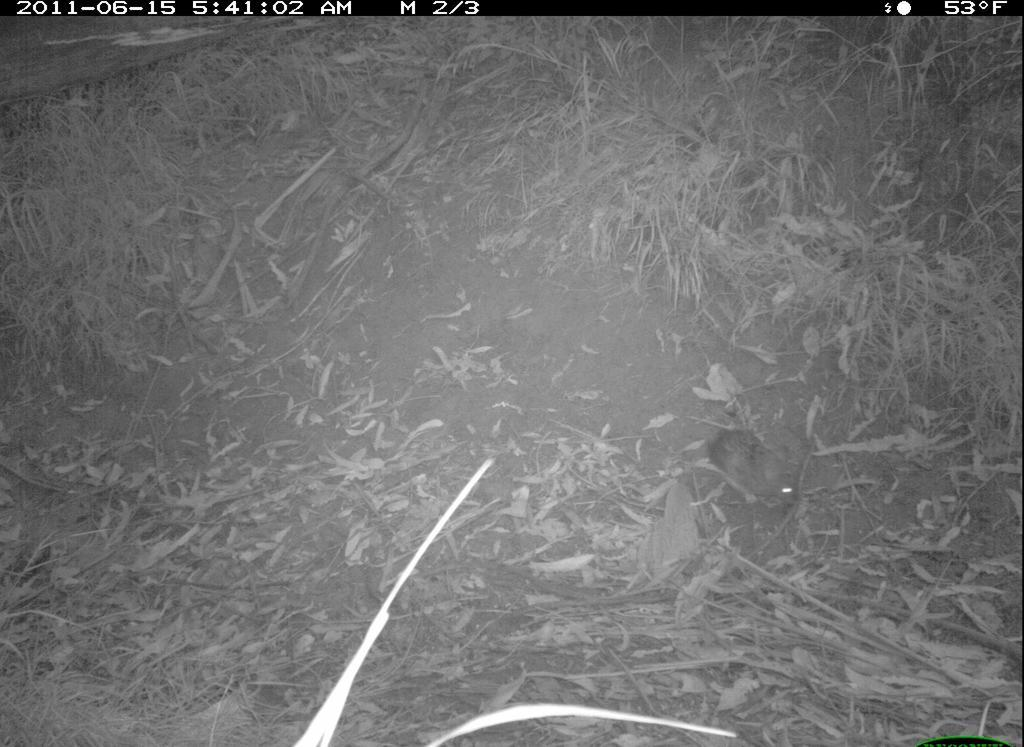rabbit: (701, 417, 804, 529)
